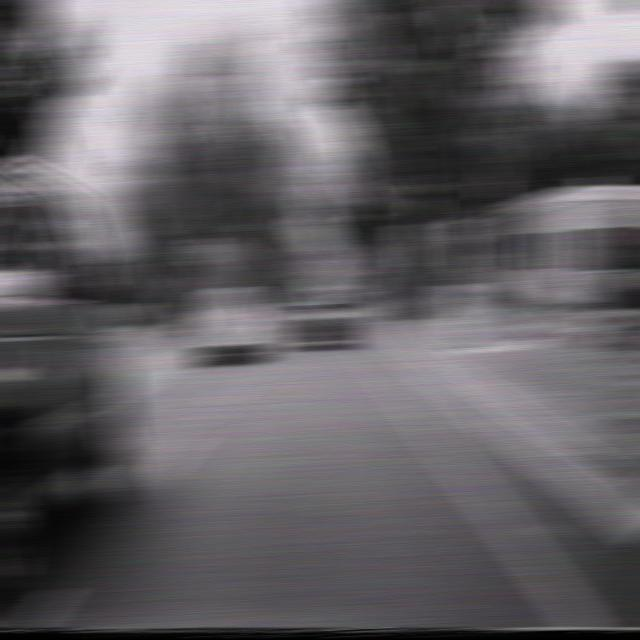speedLimit45: (396, 222, 426, 251), (188, 236, 216, 264)
